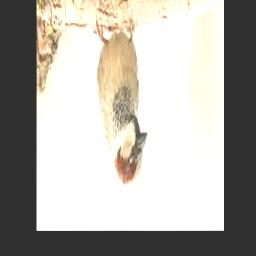Sparrow: (94, 13, 148, 186)
